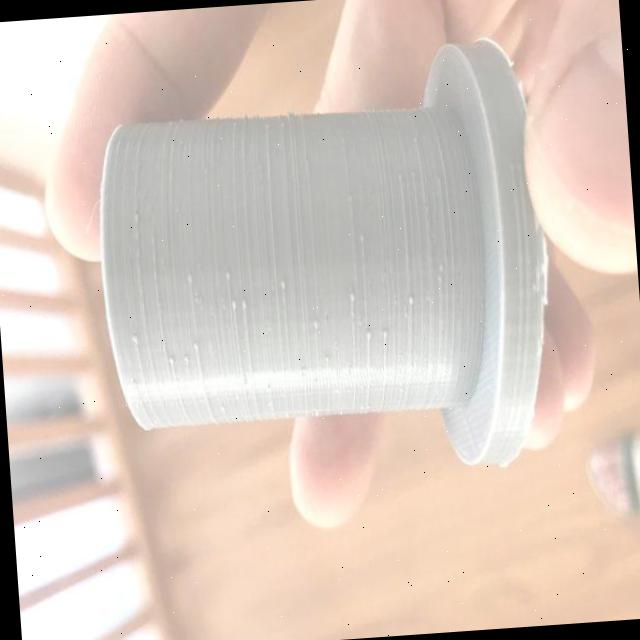blobs: (126, 327, 140, 348), (188, 334, 202, 354), (378, 326, 392, 344), (165, 348, 178, 366), (228, 293, 240, 312), (180, 350, 194, 366), (404, 291, 418, 307), (346, 292, 359, 308), (132, 208, 142, 228), (322, 346, 332, 366), (310, 316, 322, 332), (222, 264, 232, 282), (364, 328, 376, 343), (436, 260, 446, 278), (276, 276, 288, 290), (240, 294, 250, 310), (183, 270, 196, 282)
